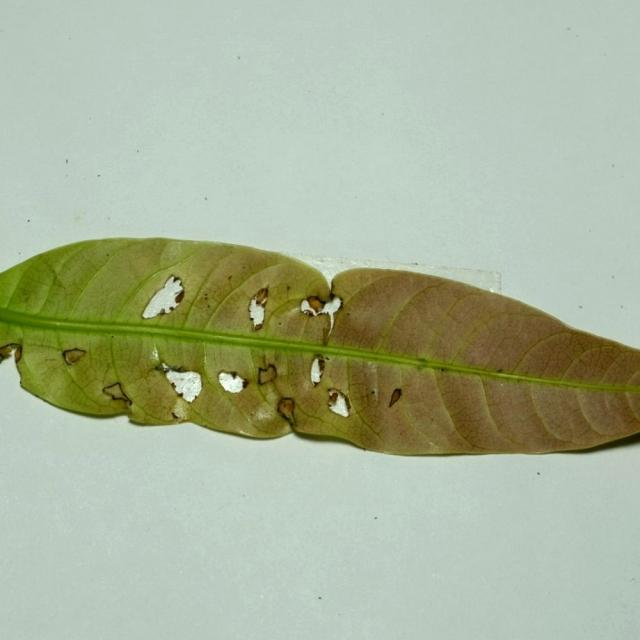Anthracnose: (301, 293, 343, 340), (162, 366, 203, 403), (248, 288, 269, 331), (327, 388, 351, 418), (102, 382, 132, 405), (218, 371, 248, 394), (277, 397, 297, 427), (252, 404, 277, 425), (62, 348, 88, 367), (310, 356, 325, 386), (321, 295, 342, 316), (170, 399, 190, 421), (258, 363, 277, 385), (305, 295, 325, 315), (164, 275, 183, 292), (255, 287, 269, 306), (389, 388, 402, 408), (0, 344, 15, 361), (20, 290, 34, 303), (13, 345, 22, 362), (174, 289, 184, 304), (151, 345, 159, 363), (328, 391, 338, 404), (318, 358, 326, 374), (177, 365, 189, 373), (171, 411, 181, 419), (168, 305, 178, 312), (159, 308, 168, 315), (170, 382, 177, 391), (227, 274, 233, 282), (497, 368, 503, 373)
Mango: (0, 238, 639, 460)
